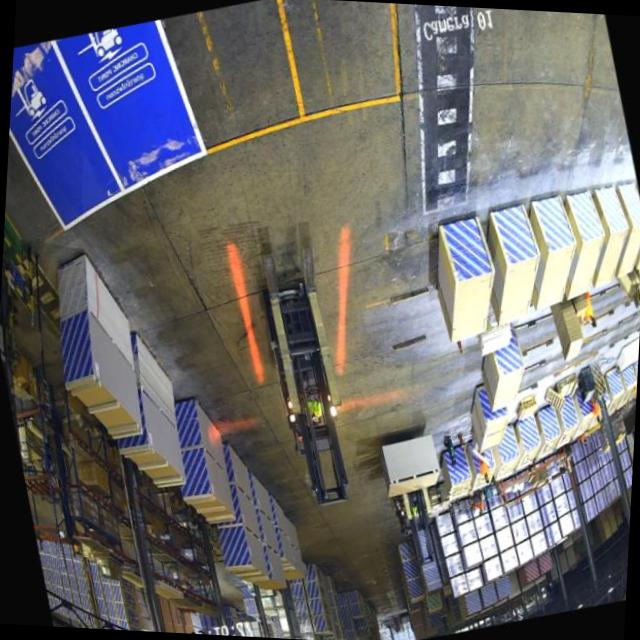forklift: (232, 230, 384, 529), (388, 484, 440, 550)
person: (580, 295, 597, 328), (476, 454, 492, 485)
